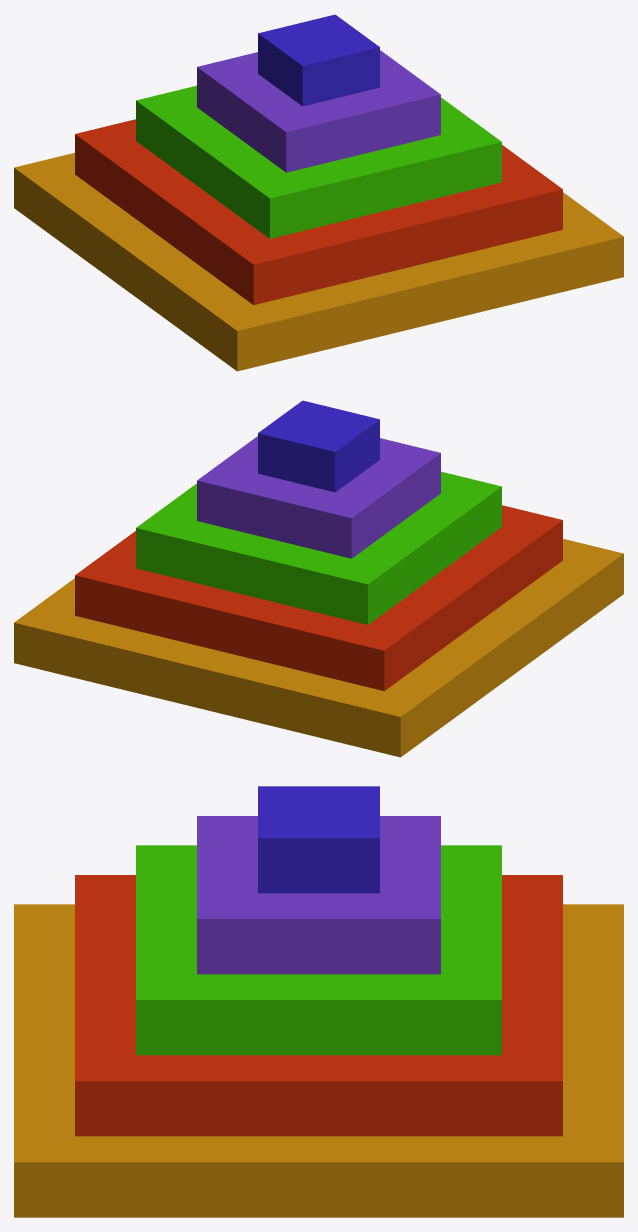
3 views of the same model, one above another, from view 1: azimuth 30°, elevation 25°; view 2: azimuth 150°, elevation 25°; view 3: azimuth 270°, elevation 25° (orthographic). The views are drawn at different scales.
Parts seen in each view (by area): view 1: Null, Null_1, Null_2, Null_3, Null_4, Null_5, Null_6, Null_7, Null_8, Null_9; view 2: Null, Null_1, Null_2, Null_3, Null_4, Null_5, Null_6, Null_7, Null_8, Null_9; view 3: Null_9, Null_8, Null_7, Null_6, Null_5, Null_4, Null_3, Null_2, Null_1, Null.
Part boxes in pixels (x1,y1,x2,y2): Null: (14, 158, 275, 371); Null_1: (53, 124, 314, 361); Null_2: (114, 91, 353, 352); Null_3: (175, 57, 391, 342); Null_4: (236, 24, 430, 333); Null_5: (297, 14, 469, 323); Null_6: (380, 50, 507, 314); Null_7: (441, 97, 546, 305); Null_8: (502, 145, 585, 295); Null_9: (563, 192, 623, 286); Null: (362, 544, 623, 757); Null_1: (323, 510, 584, 747); Null_2: (284, 477, 523, 738); Null_3: (246, 443, 462, 728); Null_4: (207, 410, 401, 719); Null_5: (168, 400, 340, 709); Null_6: (130, 436, 257, 700); Null_7: (91, 483, 196, 691); Null_8: (52, 531, 135, 681); Null_9: (14, 578, 74, 672); Null_9: (14, 1136, 623, 1217); Null_8: (14, 1055, 623, 1136); Null_7: (14, 974, 623, 1110); Null_6: (14, 893, 623, 1084); Null_5: (14, 812, 623, 1058); Null_4: (14, 786, 623, 1033); Null_3: (14, 816, 623, 1007); Null_2: (14, 845, 623, 981); Null_1: (14, 875, 623, 955); Null: (14, 904, 623, 930).
Bounding box in the file's own units: 1000 × 500 × 1000.
